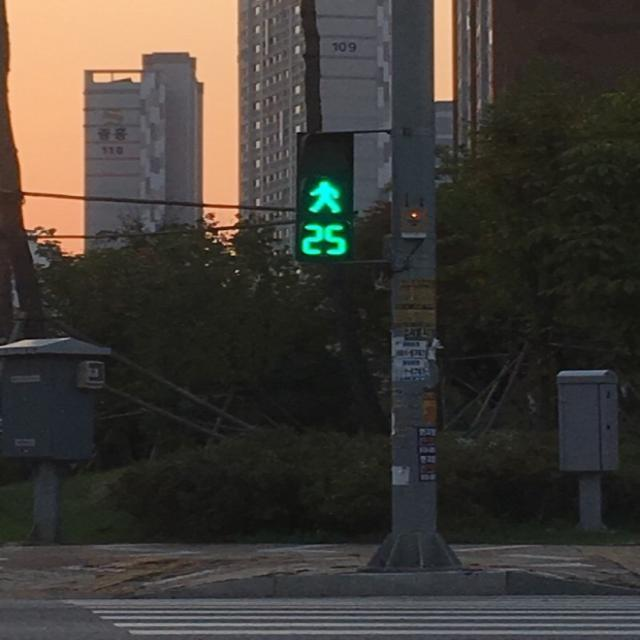green_light: (302, 172, 349, 258)
